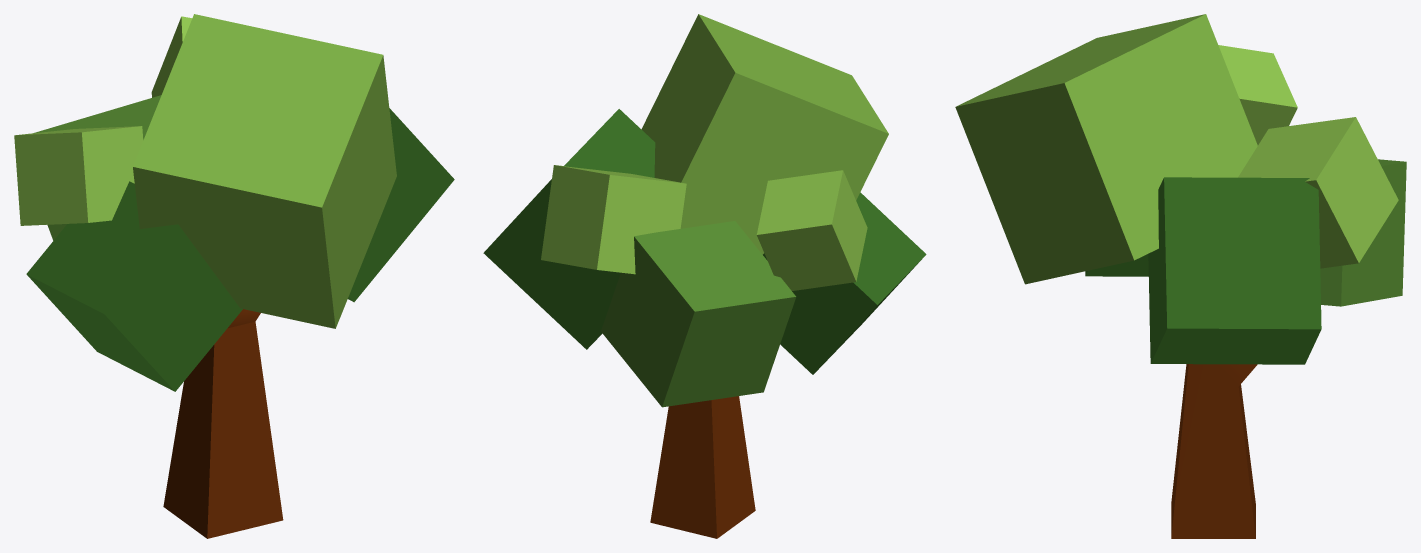
The model's file is Tree_LV1.fbx.
The picture shows the model from 3 angles, left to right: view 1: azimuth 30°, elevation 25°; view 2: azimuth 150°, elevation 25°; view 3: azimuth 270°, elevation 25°; orthographic projection. The views are drawn at different scales.
Parts seen in each view (by area): view 1: Tree_LV1; view 2: Tree_LV1; view 3: Tree_LV1.
Boxes of the visible parts, x1=… form: Tree_LV1: x1=14, y1=14, x2=454, y2=538; Tree_LV1: x1=483, y1=14, x2=926, y2=538; Tree_LV1: x1=955, y1=14, x2=1406, y2=538.
Bounding box in the file's own units: 313 × 377 × 314.
